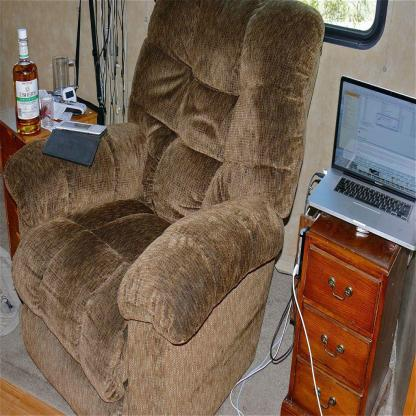board: (307, 76, 416, 248), (12, 28, 40, 138)
